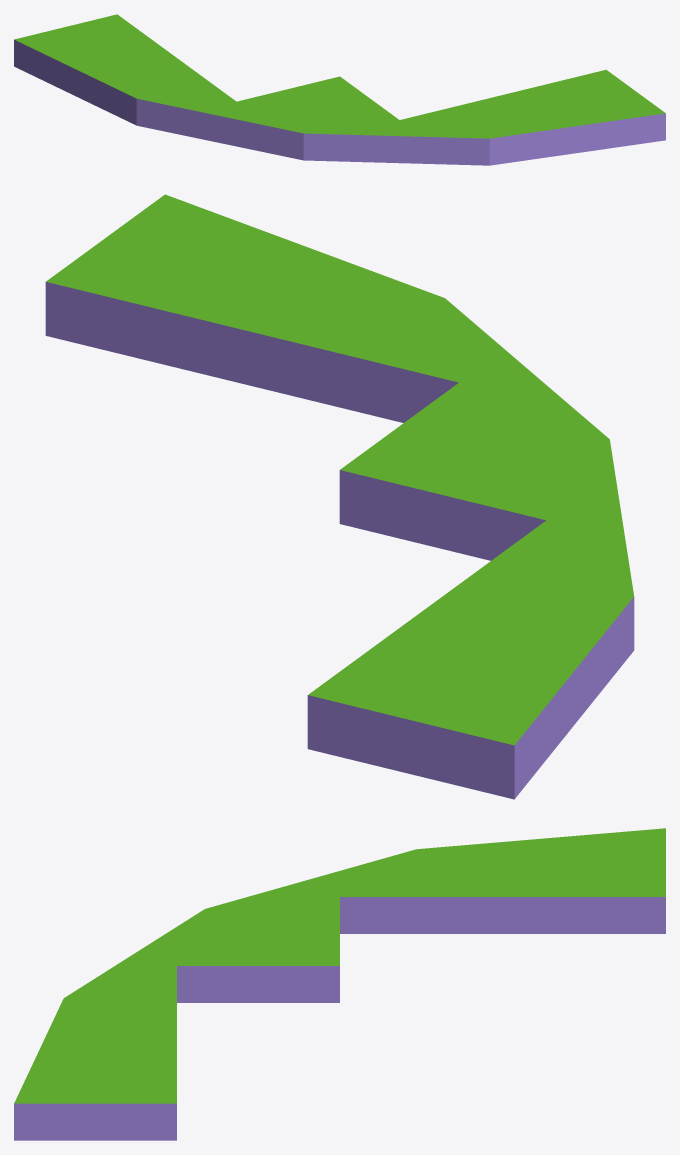
Rendered from Tiered_Grass_Curve_Outer_4x4.glb.
3 views of the same model, one above another, from view 1: azimuth 30°, elevation 25°; view 2: azimuth 150°, elevation 25°; view 3: azimuth 270°, elevation 25° (orthographic). The views are drawn at different scales.
Parts seen in each view (by area): view 1: Tiered_Grass_Curve_Outer_4x4; view 2: Tiered_Grass_Curve_Outer_4x4; view 3: Tiered_Grass_Curve_Outer_4x4.
Part boxes in pixels (left/top/right/bottom): Tiered_Grass_Curve_Outer_4x4: left=14, top=14, right=665, bottom=165; Tiered_Grass_Curve_Outer_4x4: left=45, top=194, right=634, bottom=799; Tiered_Grass_Curve_Outer_4x4: left=14, top=828, right=665, bottom=1140.
Size of the model in its own units: 400 by 25 by 400.
